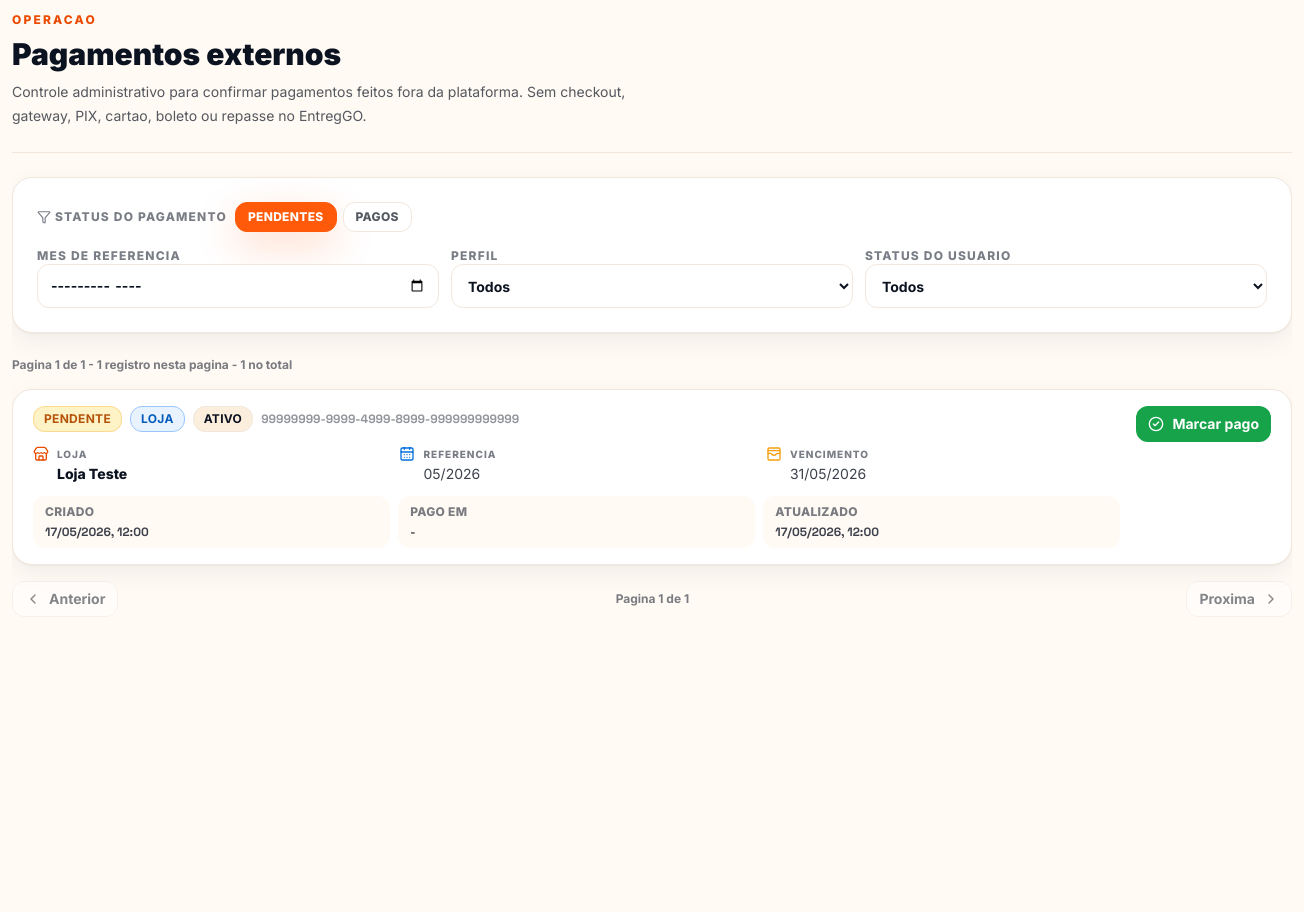
AdminPaymentsPanel › shows a retry-safe action error when mark-paid fails
Click the button "Marcar pago" at (1204, 424), box [1136,406,1271,442]
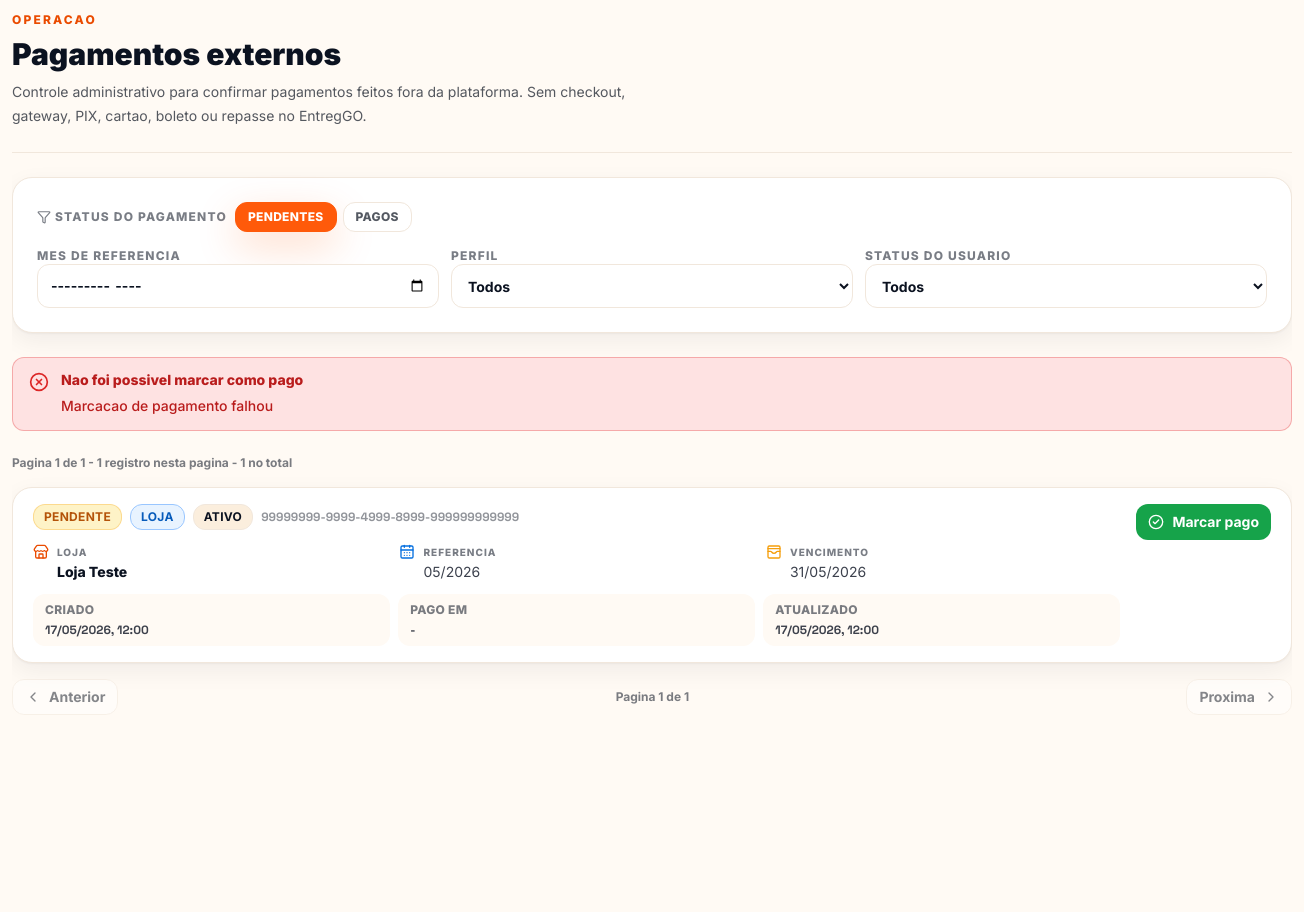
Expected: the button "Marcar pago" is enabled, [1136,504,1271,540]
Expected: the text "Marcacao de pagamento falhou" is shown, [61,394,303,418]
